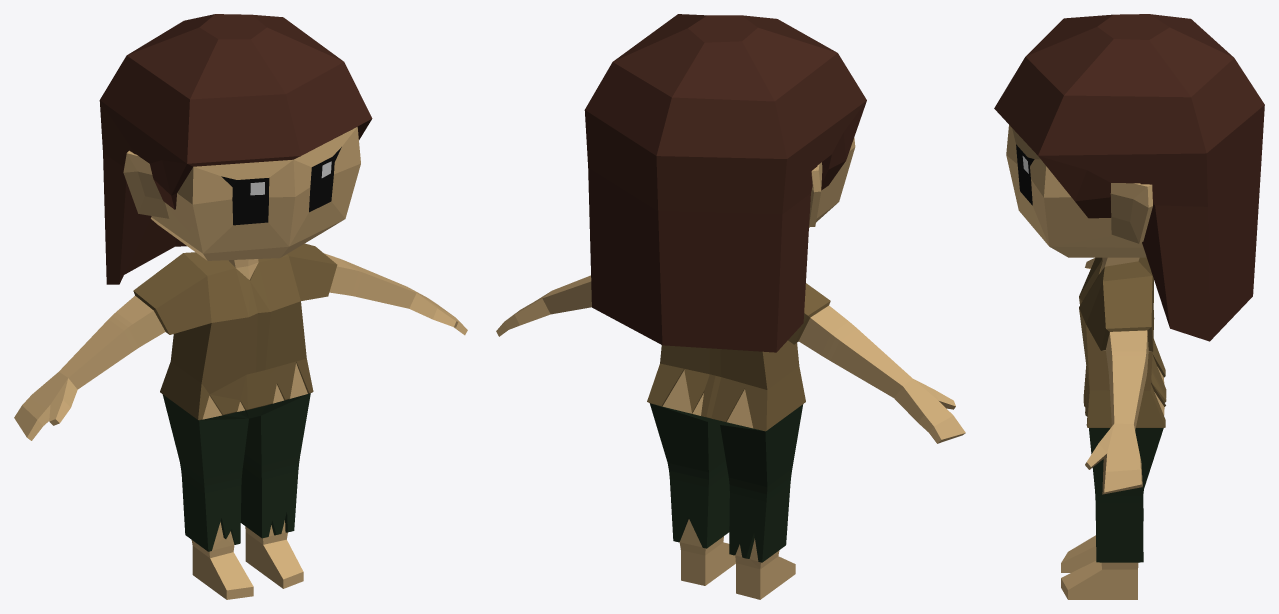
Rendered from CharacterGirl.fbx.
The picture shows the model from 3 angles, left to right: view 1: azimuth 30°, elevation 25°; view 2: azimuth 150°, elevation 25°; view 3: azimuth 270°, elevation 25°; orthographic projection. The views are drawn at different scales.
Visible parts, largest first — view 1: Girl Character; view 2: Girl Character; view 3: Girl Character.
Boxes of the visible parts, x1,y1,x2,y2 form: Girl Character: (14,14,467,599); Girl Character: (496,14,965,599); Girl Character: (994,14,1264,599).
Bounding box in the file's own units: 323 × 378 × 168.
